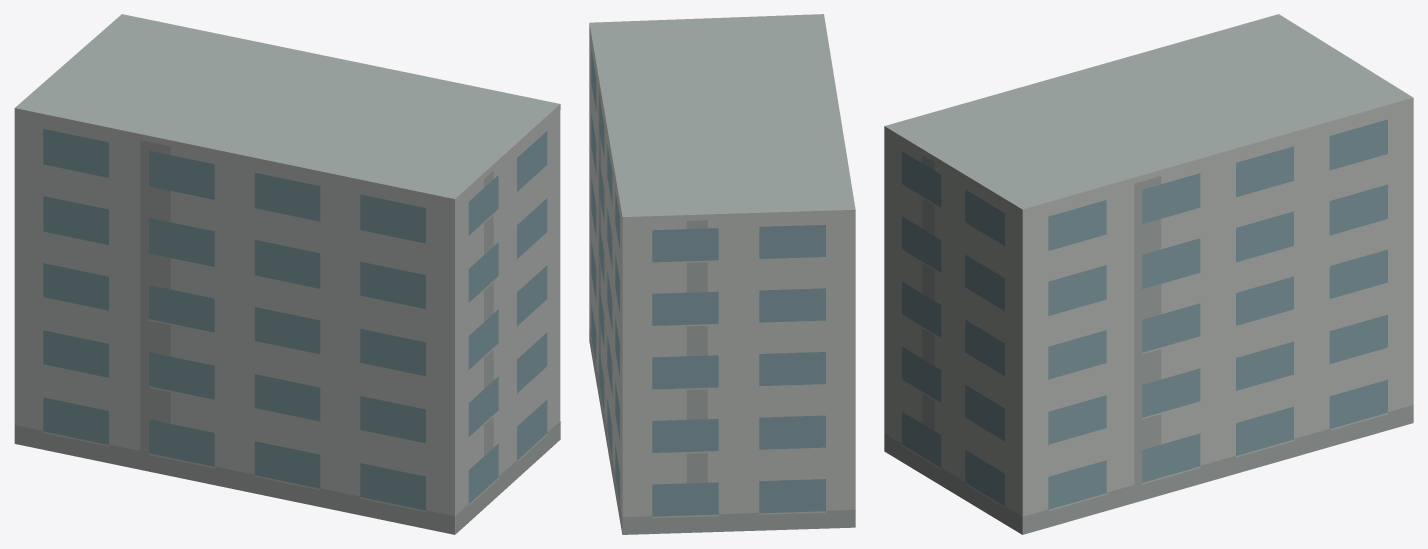
The model's file is survey-upis-32843801.glb.
The picture shows the model from 3 angles, left to right: view 1: azimuth 30°, elevation 25°; view 2: azimuth 150°, elevation 25°; view 3: azimuth 270°, elevation 25°; orthographic projection. The views are drawn at different scales.
Parts seen in each view (by area): view 1: survey-upis-32843801.tmp; view 2: survey-upis-32843801.tmp; view 3: survey-upis-32843801.tmp.
Part boxes in pixels (<box>): survey-upis-32843801.tmp: <box>14,14,560,534</box>; survey-upis-32843801.tmp: <box>589,14,855,534</box>; survey-upis-32843801.tmp: <box>884,14,1413,534</box>.
Size of the model in its own units: 16.96 by 13.15 by 19.39.
